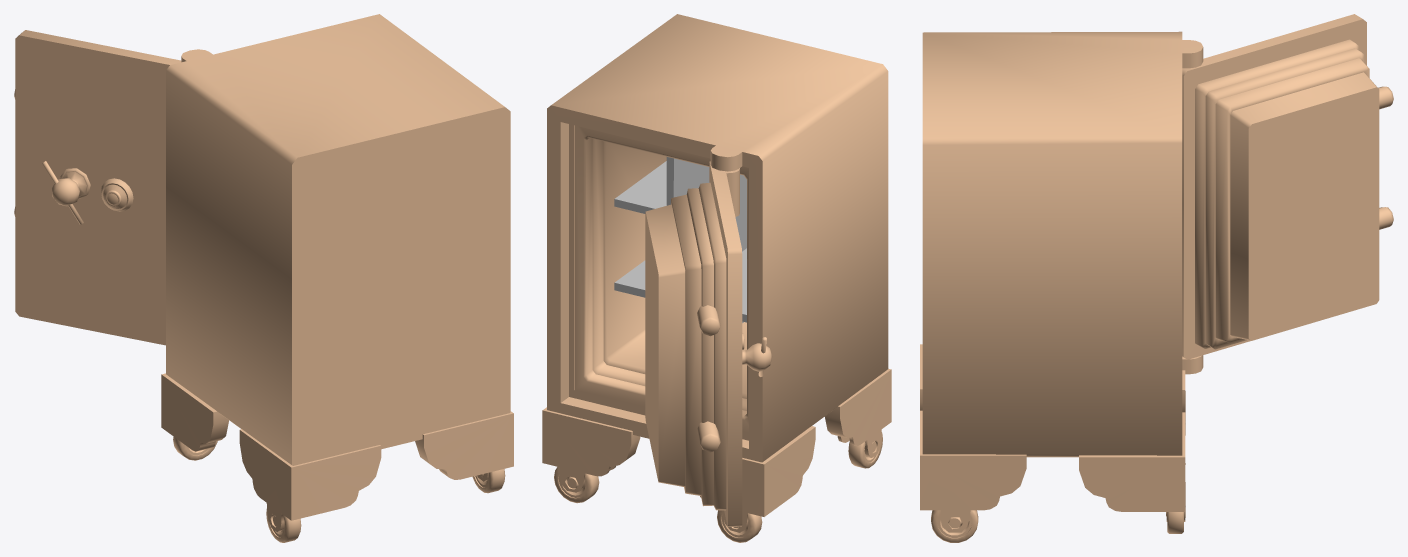
File: safe.fbx
The picture shows the model from 3 angles, left to right: view 1: azimuth 30°, elevation 25°; view 2: azimuth 150°, elevation 25°; view 3: azimuth 270°, elevation 25°; orthographic projection. The views are drawn at different scales.
Visible parts, largest first — view 1: Safe_Low_Poly; view 2: Safe_Low_Poly; view 3: Safe_Low_Poly.
Boxes of the visible parts, x1=… form: Safe_Low_Poly: x1=14, y1=14, x2=513, y2=542; Safe_Low_Poly: x1=542, y1=14, x2=891, y2=542; Safe_Low_Poly: x1=920, y1=14, x2=1393, y2=542.
Size of the model in its own units: 58.5 by 77.34 by 81.75.
